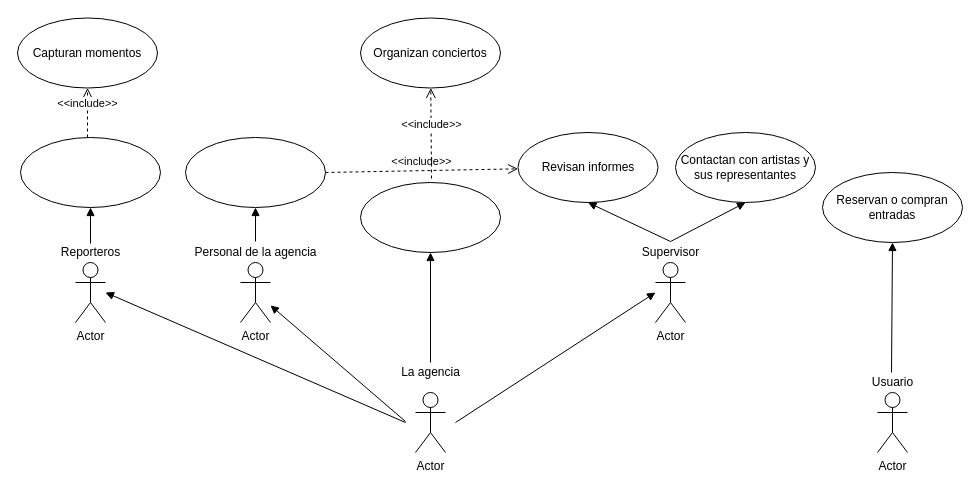
This 980x490 diagram has some shape labels left out. The shapes that lost their labels are listed below. From the top down, each one's box as (x1, y1, x2, y2) in pixels, then its label:
(20, 136, 160, 208): Documentan conciertos
(184, 136, 326, 208): Generan informes
(360, 182, 500, 252): Organizan giras
